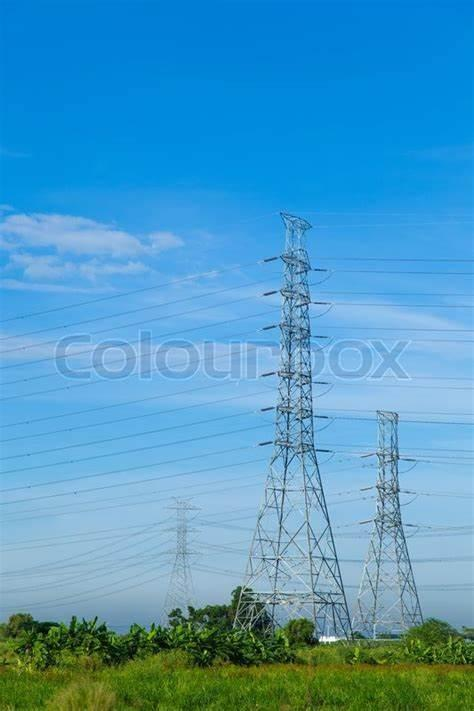power_tower: (237, 206, 359, 651), (360, 402, 430, 648), (163, 495, 207, 635)
